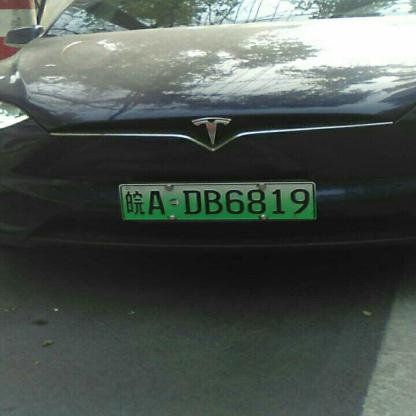lp: (118, 181, 314, 218)
